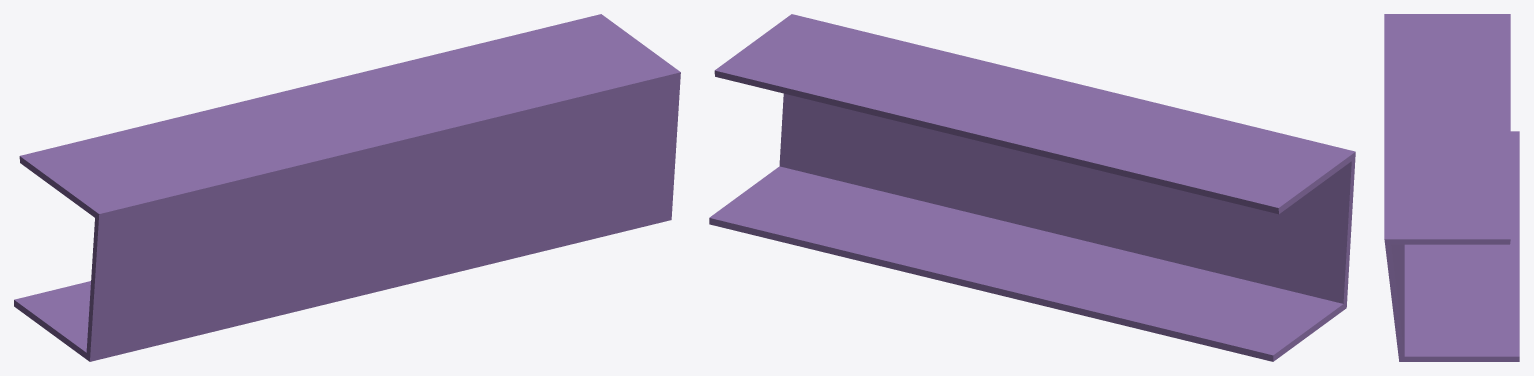
The model's file is bench.fbx.
3 renders of one model, left to right at view 1: azimuth 30°, elevation 25°; view 2: azimuth 150°, elevation 25°; view 3: azimuth 270°, elevation 25°, orthographic. The views are drawn at different scales.
Visible parts, largest first — view 1: bench; view 2: bench; view 3: bench.
Boxes of the visible parts, x1,y1,x2,y2 form: bench: (14,14,680,361); bench: (709,14,1355,361); bench: (1384,14,1519,361).
Size of the model in its own units: 180 by 45.64 by 45.72.
